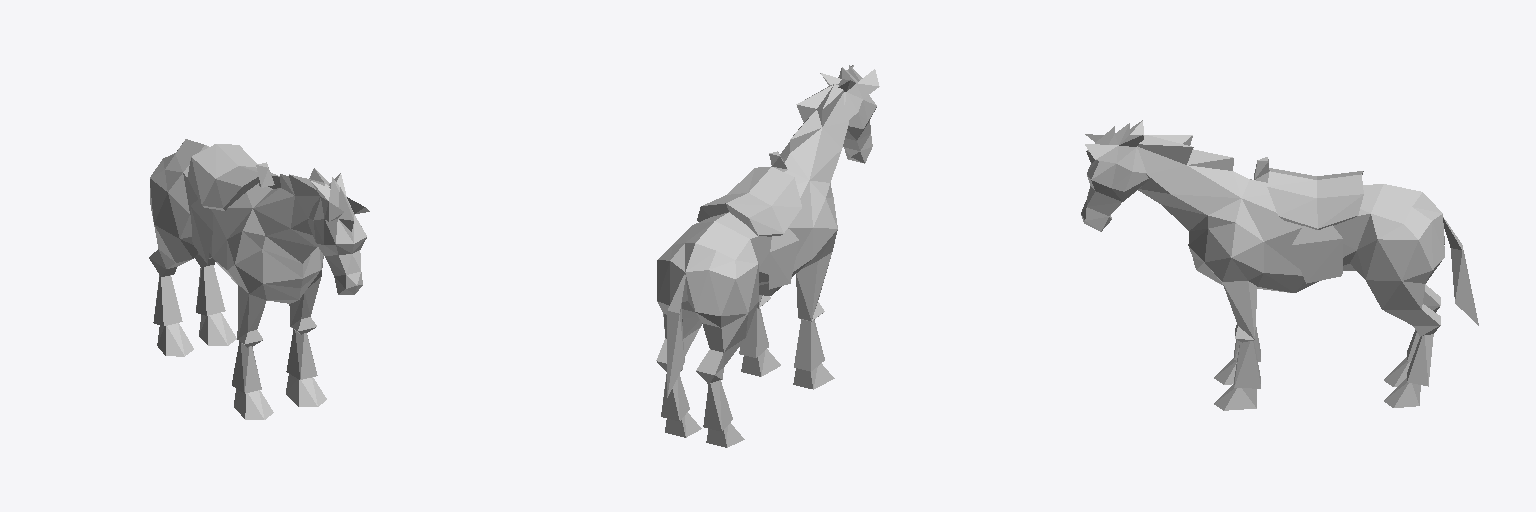
The model's file is Epona.obj.
3 views of the same model, side by side, from view 1: azimuth 30°, elevation 25°; view 2: azimuth 150°, elevation 25°; view 3: azimuth 270°, elevation 25° (orthographic).
Visible parts, largest first — view 1: Mesh01, Material.193_Epona_grp.png; view 2: Mesh01, Material.193_Epona_grp.png; view 3: Mesh01, Material.193_Epona_grp.png.
Boxes of the visible parts, <box> form: Mesh01: <box>149,139,329,419</box>; Material.193_Epona_grp.png: <box>308,173,369,294</box>; Mesh01: <box>656,84,848,447</box>; Material.193_Epona_grp.png: <box>820,65,879,163</box>; Mesh01: <box>1137,135,1478,410</box>; Material.193_Epona_grp.png: <box>1081,120,1148,231</box>.
Bounding box in the file's own units: 69.44 × 195 × 263.